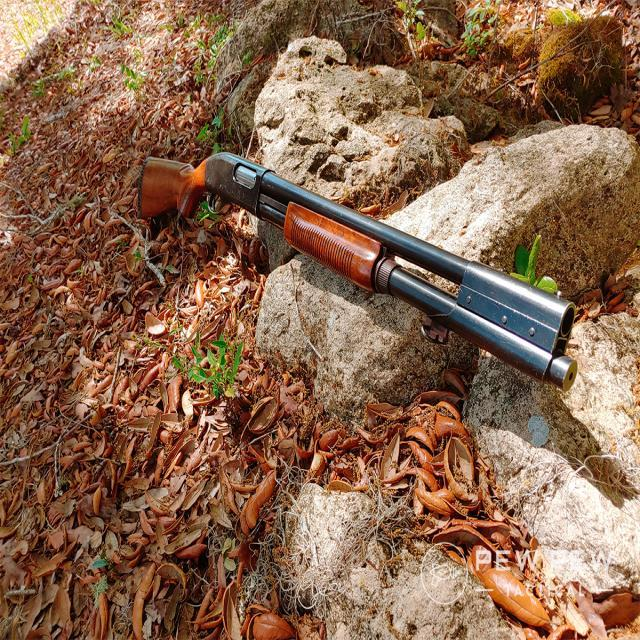shotgun: (120, 126, 616, 412)
